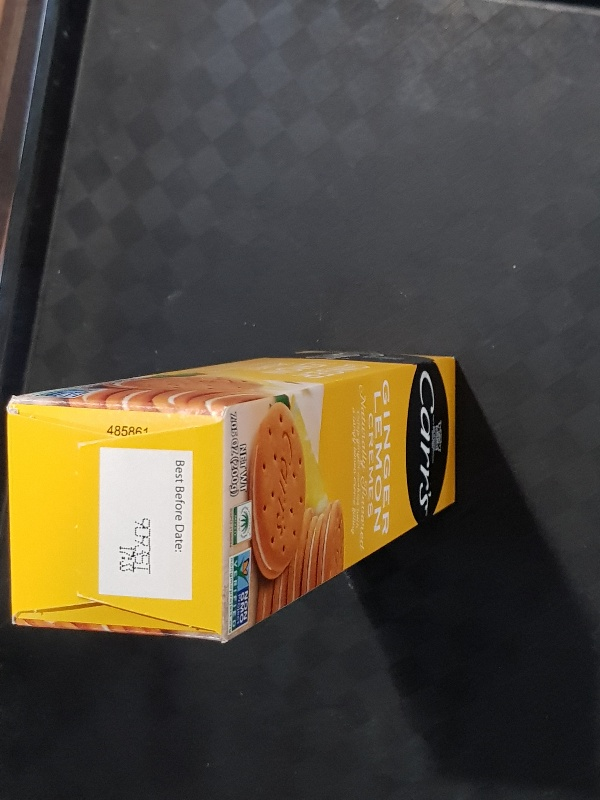Carr's Ginger Lemon Cremes: (5, 347, 459, 643)
